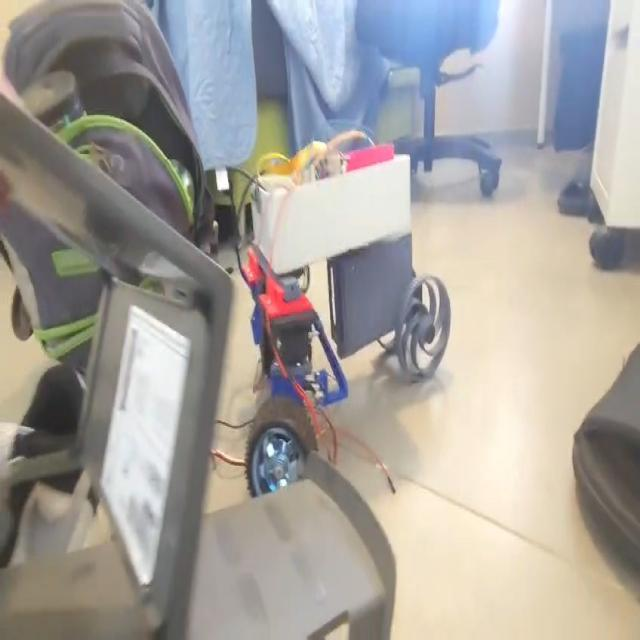Robot: (243, 139, 453, 498)
